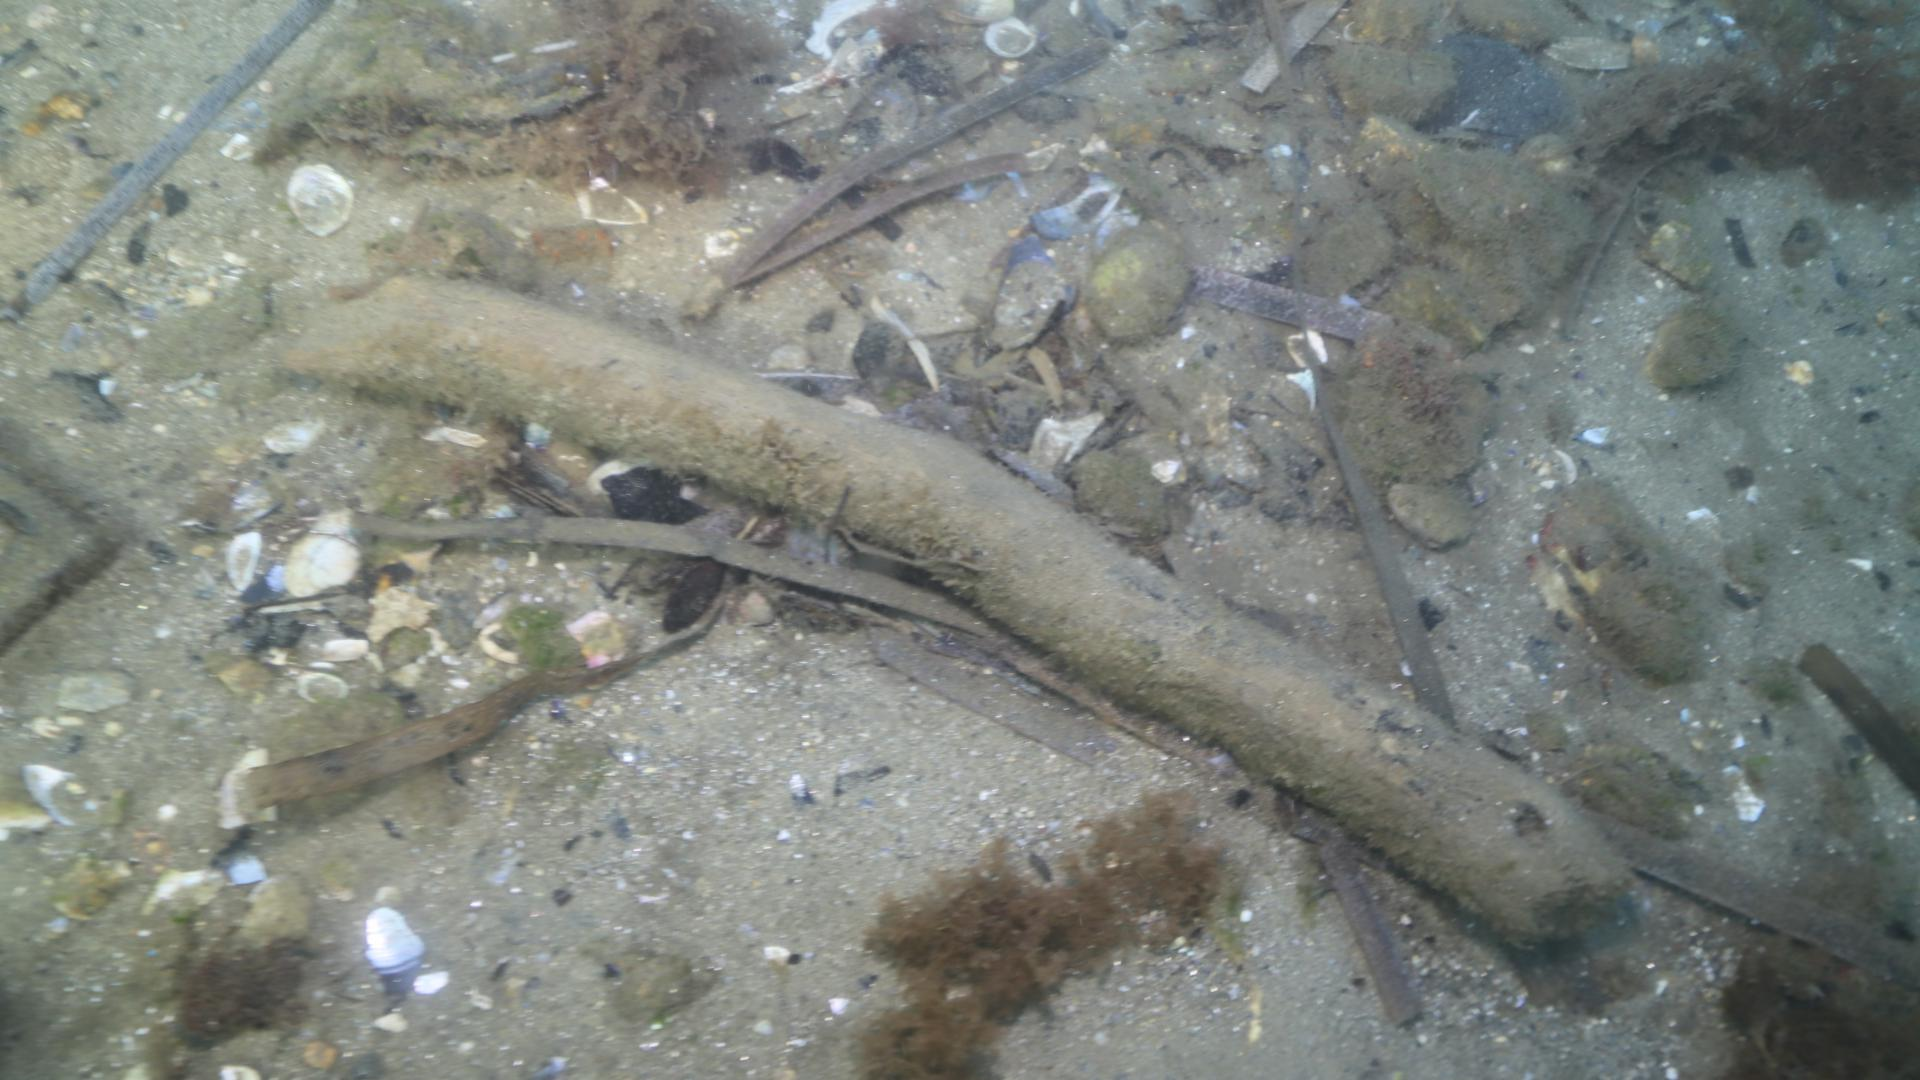wood: (280, 273, 1643, 945)
